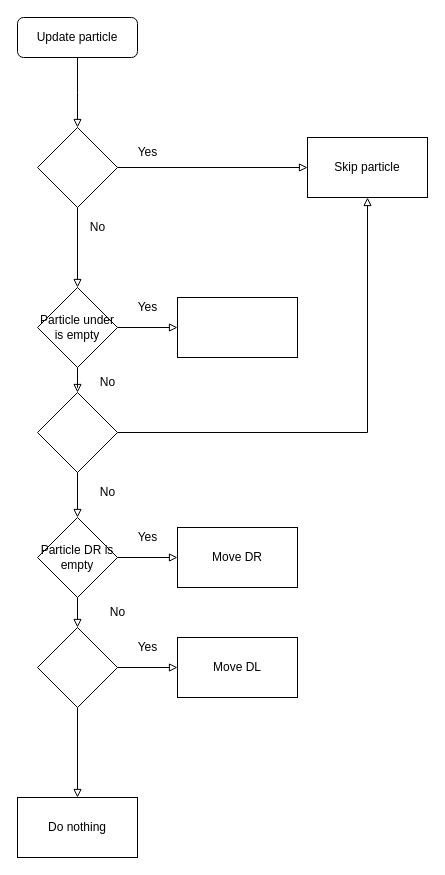
This 445x875 diagram has some shape labels left out. Each missing label, with the centre of its shape:
"Empty || Static (!dyanmic)" belongs at pixel 77 167.
"Move under by 1" belongs at pixel 237 327.
"Particle DL is empty" belongs at pixel 77 667.
"Particle under is dynamic" belongs at pixel 77 432.
